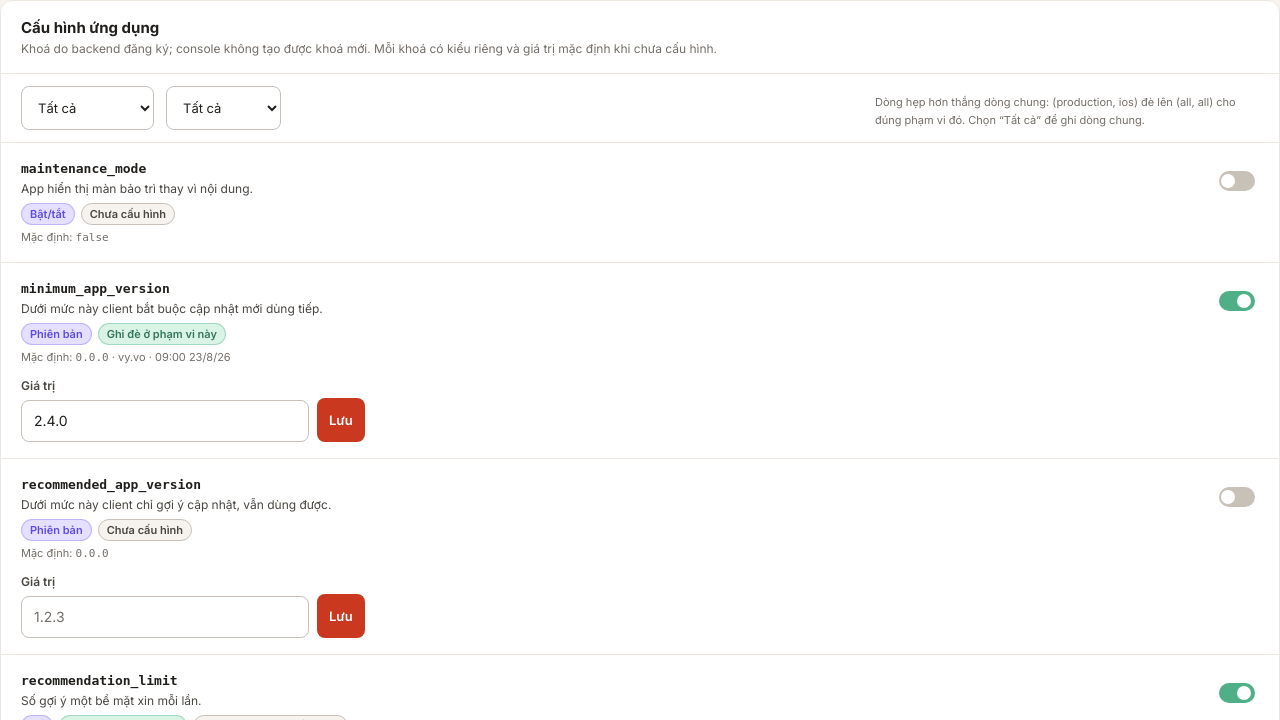
Test: FlagsPanel (CMS-030) › saves a valid typed value
This screenshot has width=1280, height=720.
expect the text "minimum_app_version" is shown: met, box [21, 281, 170, 296]
Replace the text in the field labelled "Giá trị" below "09:00 23/8/26" with "3.0.0" at [165, 421], box [21, 400, 309, 442]
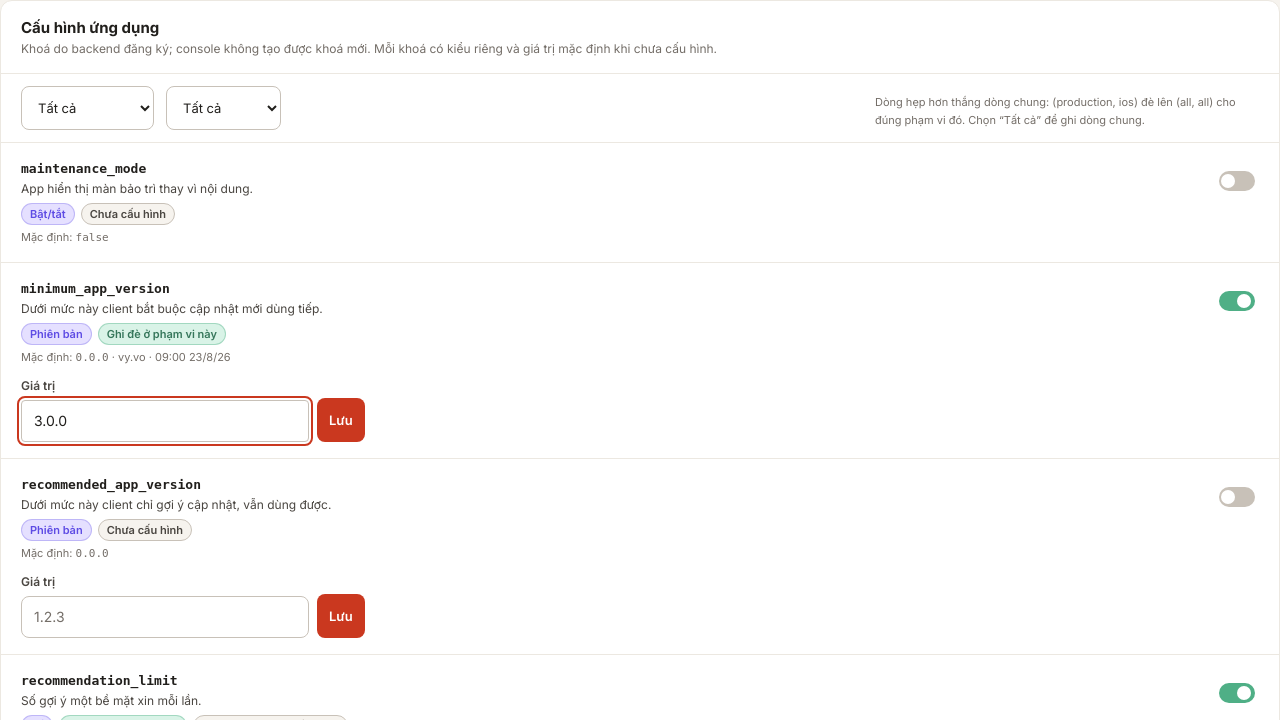
Click the button "Lưu" below "09:00 23/8/26" at [341, 420], box [317, 398, 365, 442]
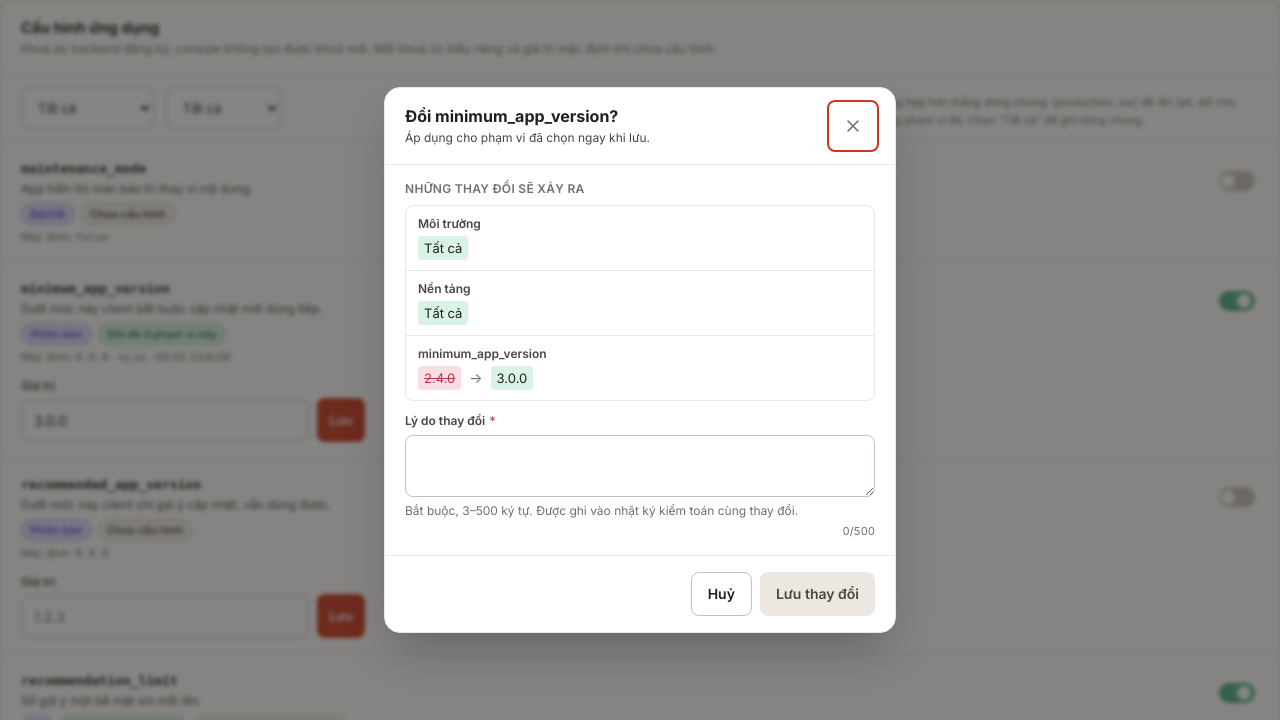
expect the text "3.0.0" is shown: met, box [491, 366, 533, 390]
Type "Bắt buộc bản vá bảo mật" into the text box labelled "Lý do thay đổi*" at [640, 466], box [405, 435, 875, 497]
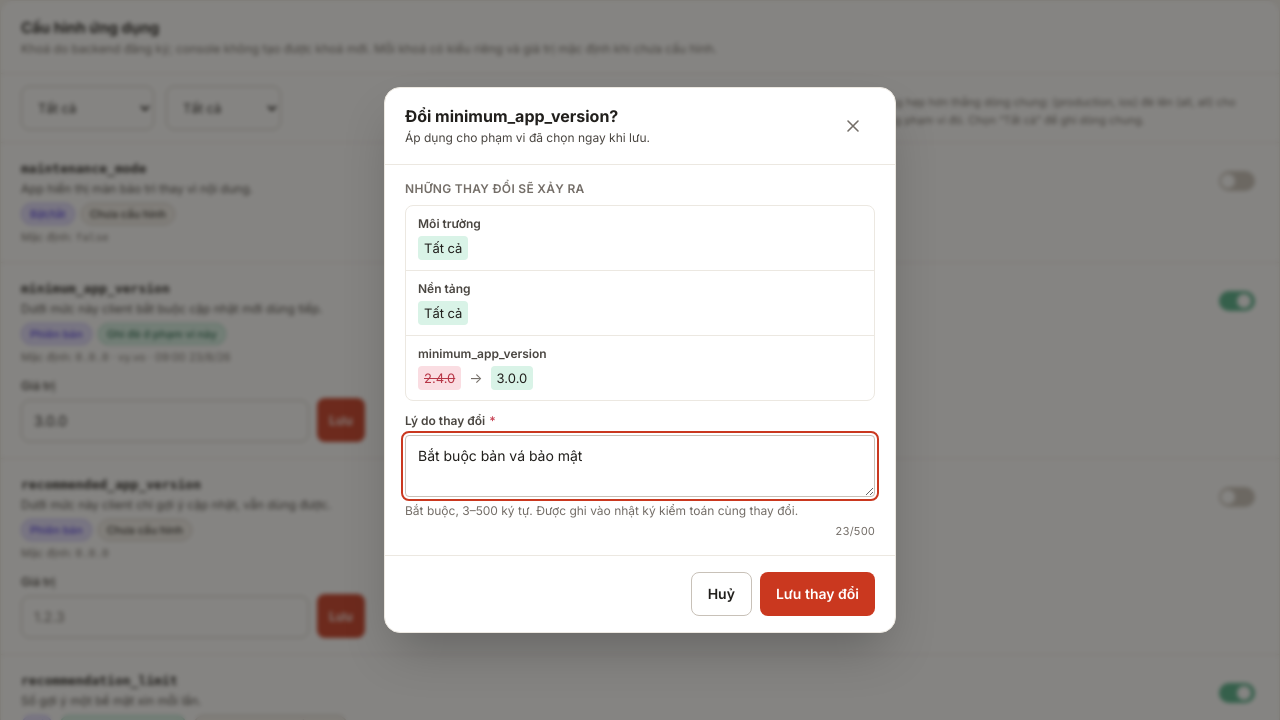
Click the button "Lưu thay đổi" at [817, 594], box [760, 572, 875, 616]
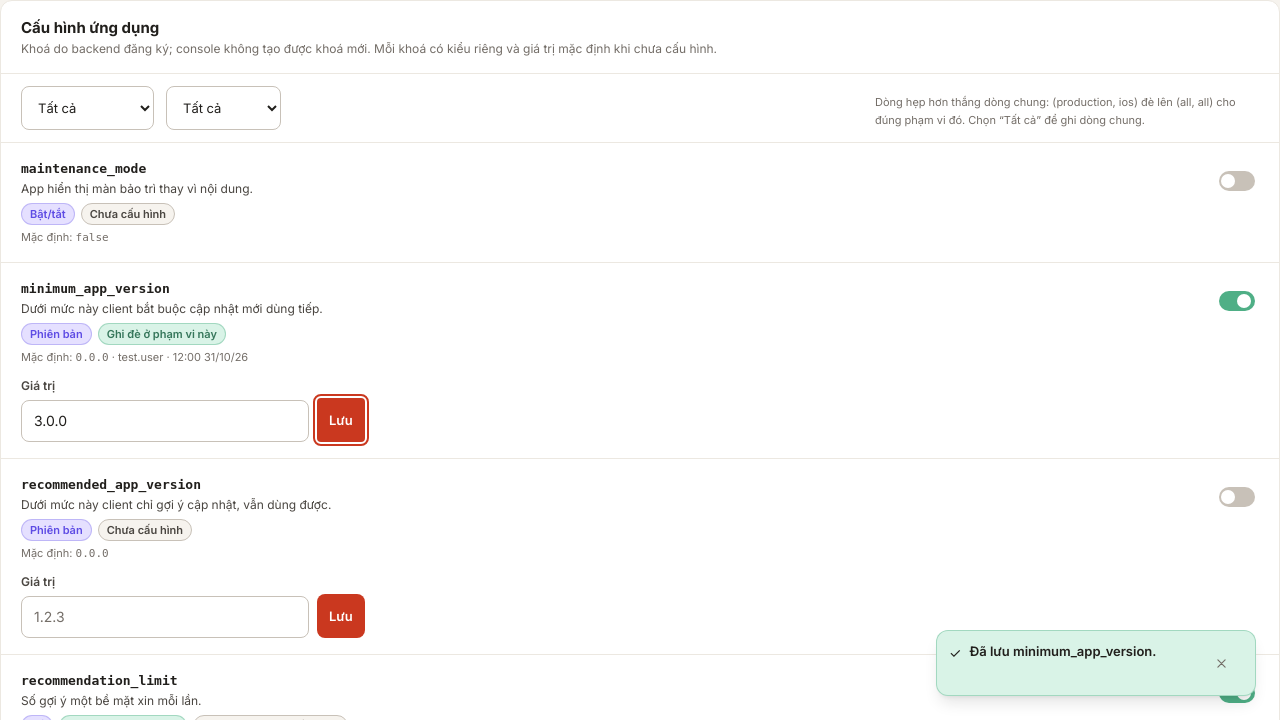
expect the text "Đã lưu minimum_app_version." is shown: met, box [969, 643, 1156, 659]
